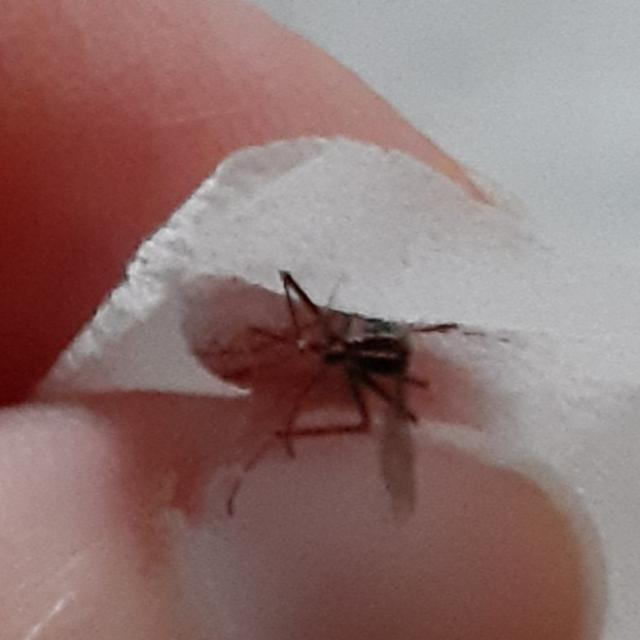albopictus: (214, 257, 518, 512)
